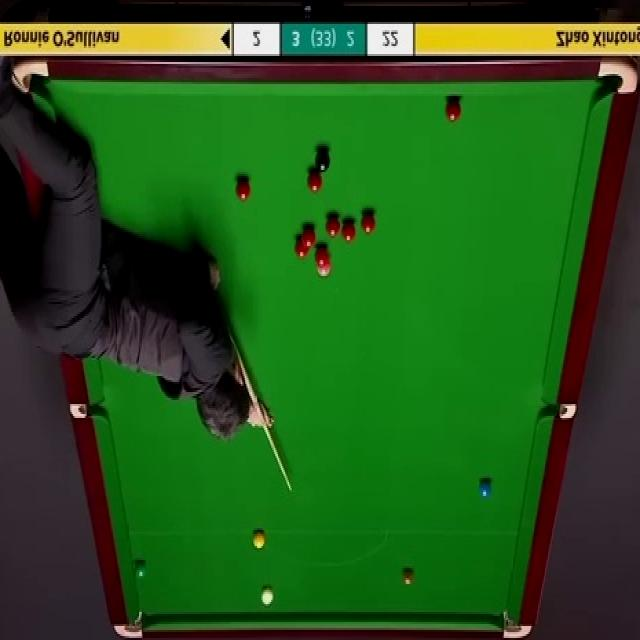pocket: (595, 58, 637, 97), (12, 58, 52, 97), (500, 608, 532, 640), (112, 611, 146, 640), (540, 403, 577, 422), (66, 402, 102, 418)
